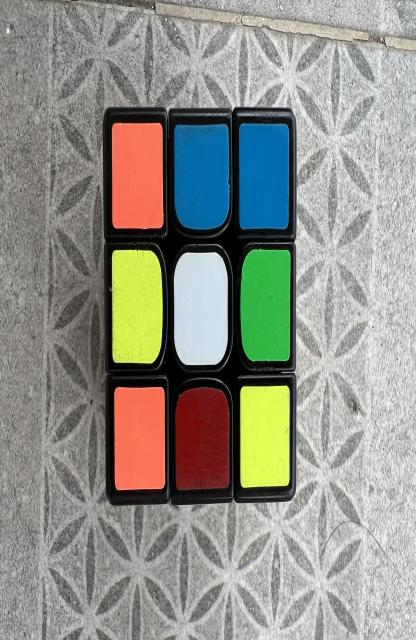Blue: (175, 123, 230, 230), (239, 123, 289, 228)
Green: (240, 248, 291, 362)
Orange: (112, 123, 163, 228), (115, 387, 165, 490)
Red: (176, 387, 229, 490)
White: (174, 252, 228, 365)
Yellow: (112, 250, 162, 363), (240, 385, 290, 488)
